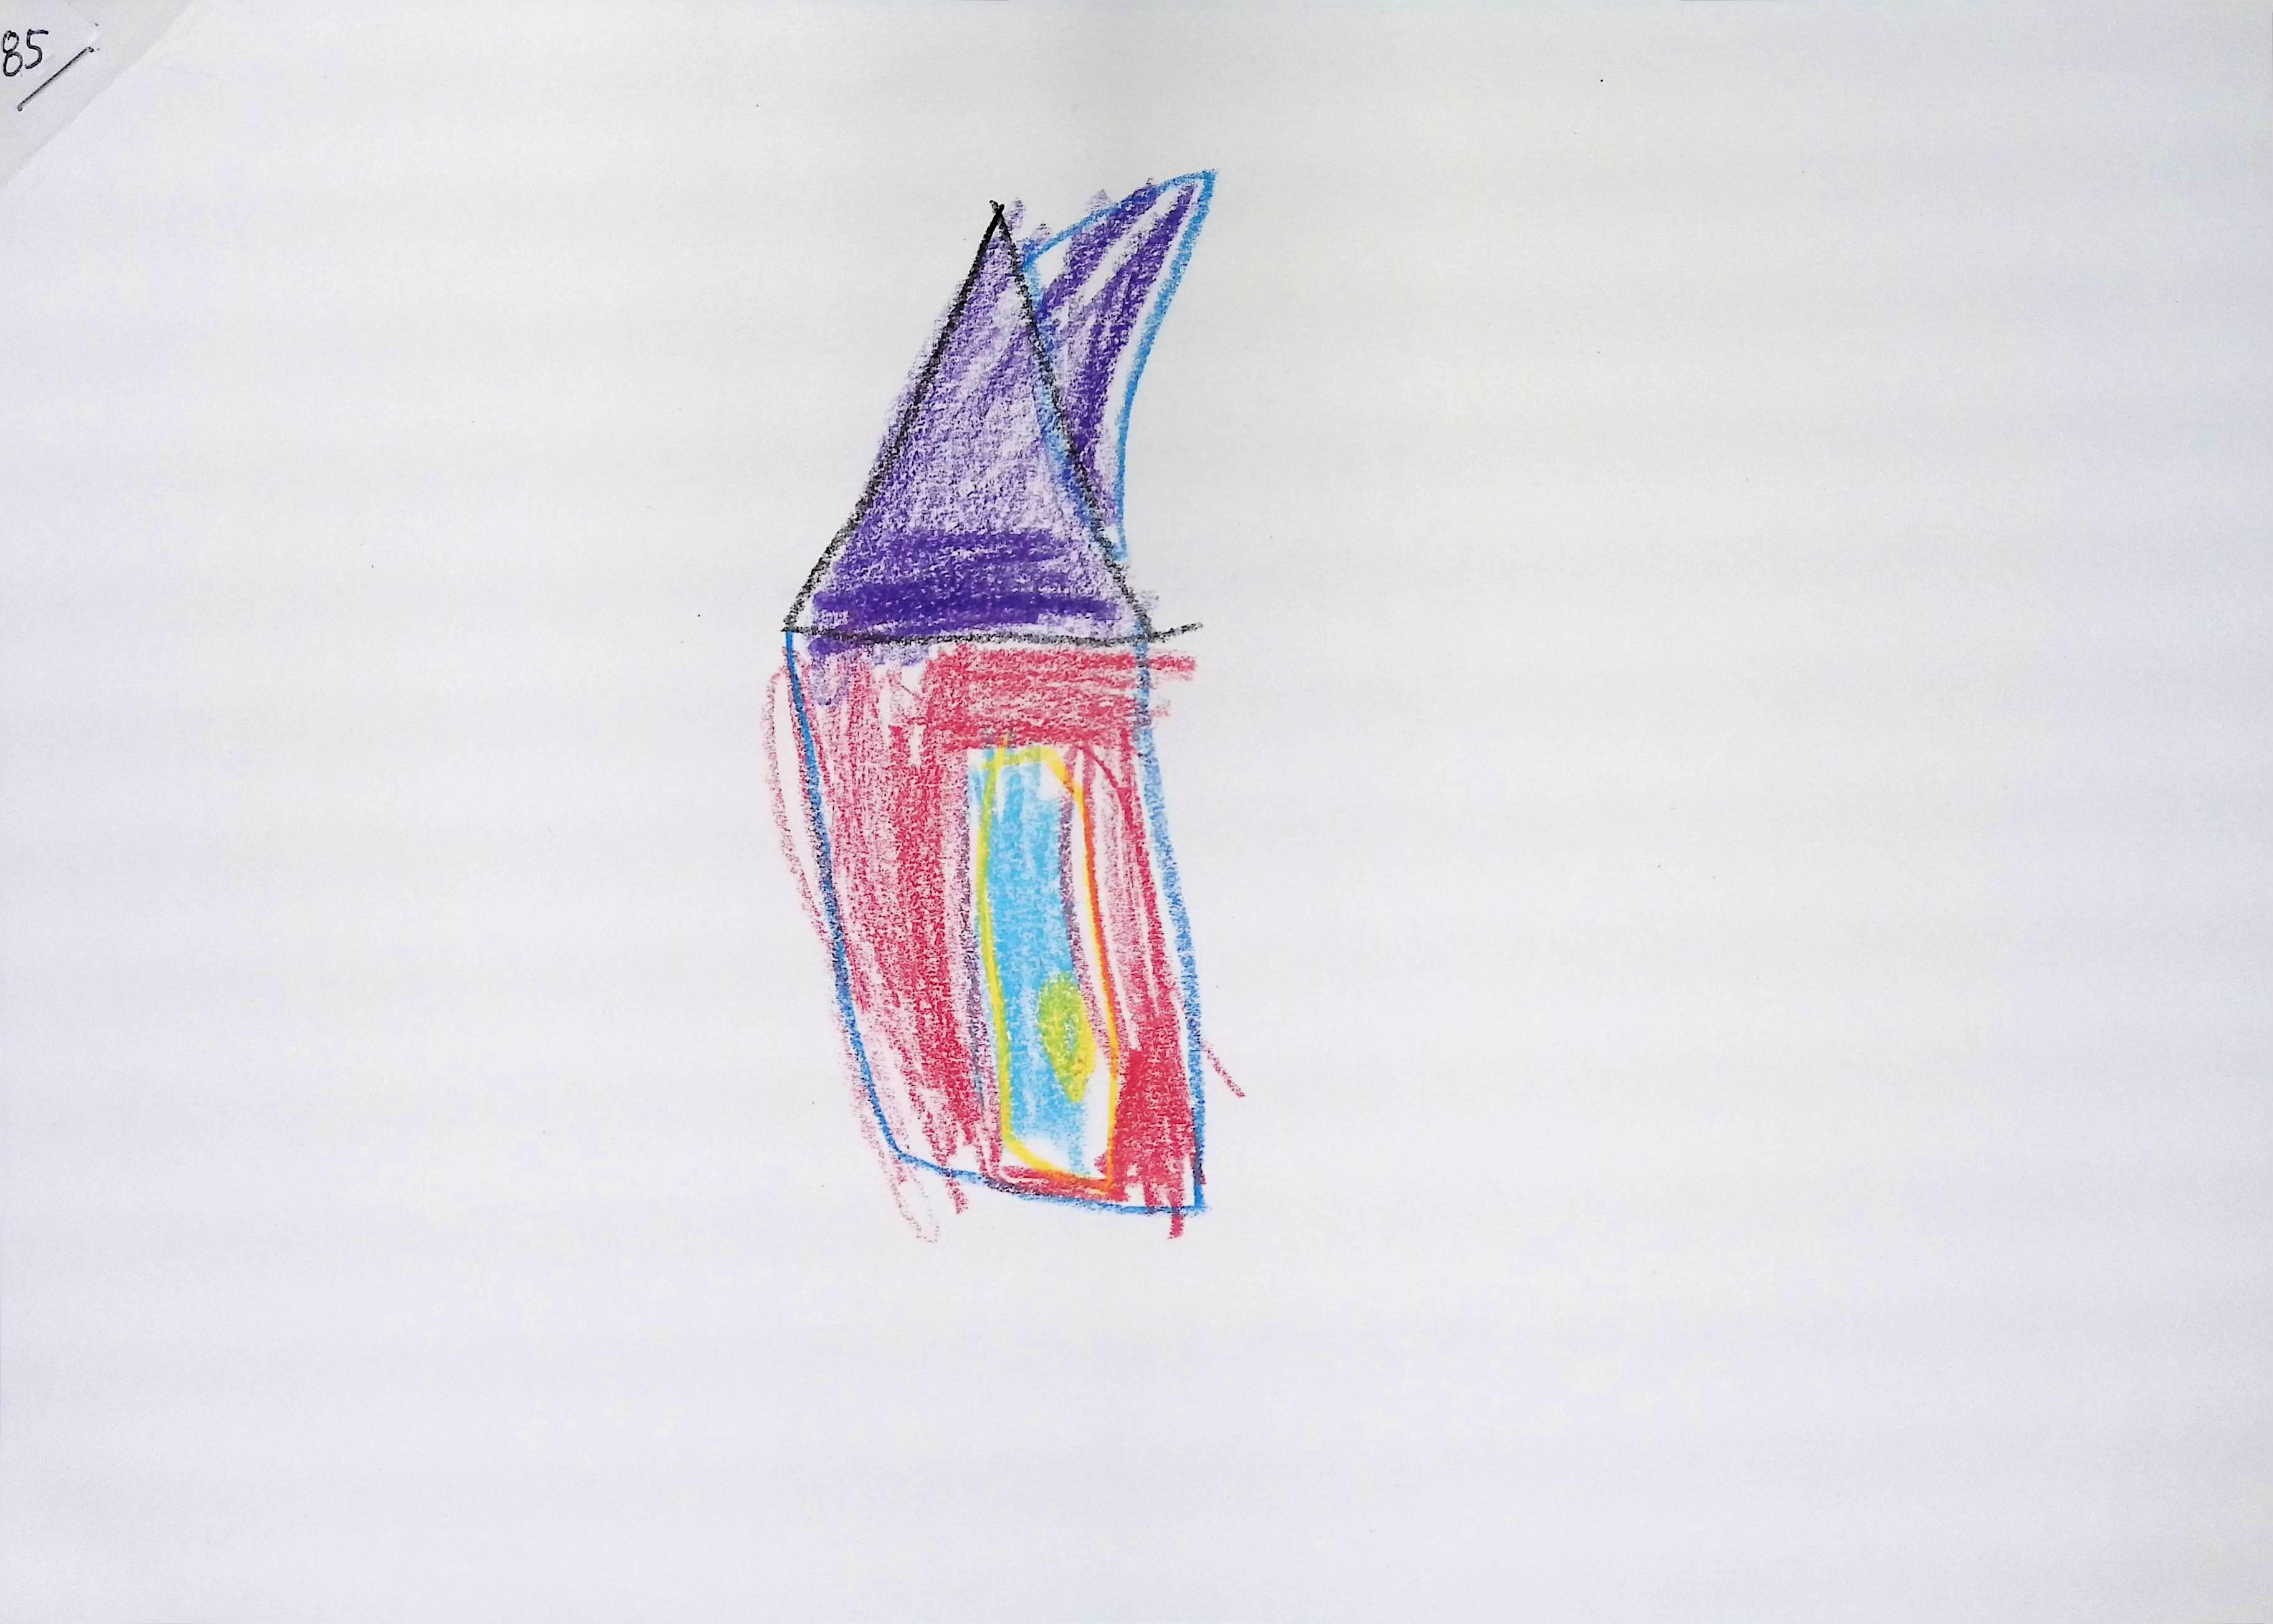chimney: (779, 638, 1213, 1216), (1011, 167, 1224, 573)
door: (976, 736, 1132, 1190)
house: (773, 170, 1225, 1227)
roof: (773, 199, 1155, 649)
